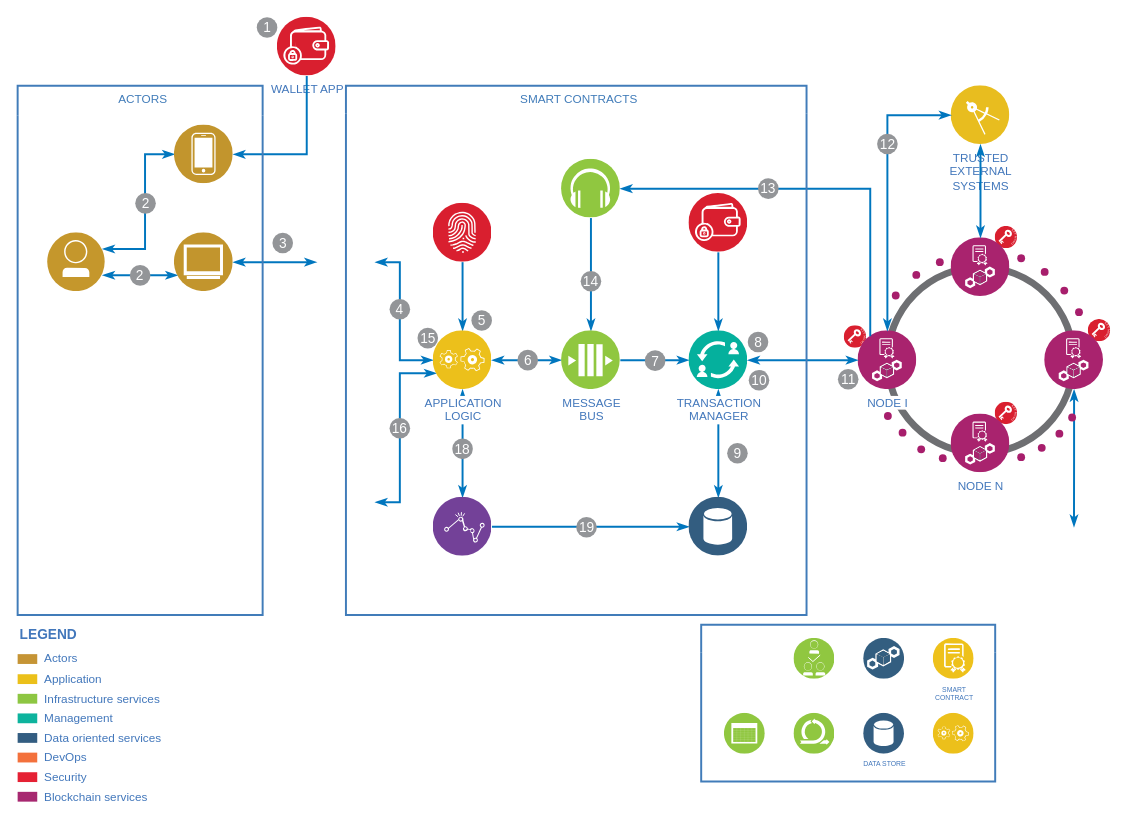
This 1128x820 diagram has some shape labels left out. Here are the shapes that lost their labels. From the top down, the centre of each, then its label:
At (x=203, y=153): "DEVICES".
At (x=590, y=188): "EVENT LISTENER".
At (x=462, y=232): "IDENTITY & ACCESS MANAGEMENT".
At (x=717, y=222): "WALLET".
At (x=76, y=261): "USER".
At (x=203, y=261): "WEB APPLICATION".
At (x=980, y=266): "NODE J".
At (x=1073, y=359): "NODE K".
At (x=462, y=526): "ANALYTICS".
At (x=717, y=526): "DATA STORE OFF CHAIN".
At (x=814, y=658): "CONSENSUS".
At (x=883, y=658): "LEDGER".
At (x=744, y=733): "EVENTS".
At (x=814, y=733): "COMMUNICATION".
At (x=953, y=733): "API".
